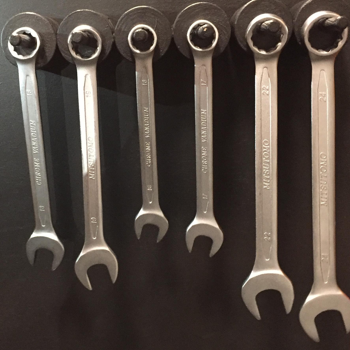bottom: (239, 266, 296, 319), (297, 288, 350, 344), (71, 245, 120, 290), (23, 230, 67, 272), (183, 216, 225, 258), (132, 207, 169, 244)
top: (297, 9, 350, 61), (242, 10, 288, 58), (65, 23, 106, 64), (6, 24, 43, 63), (183, 17, 222, 54), (126, 22, 160, 56)
